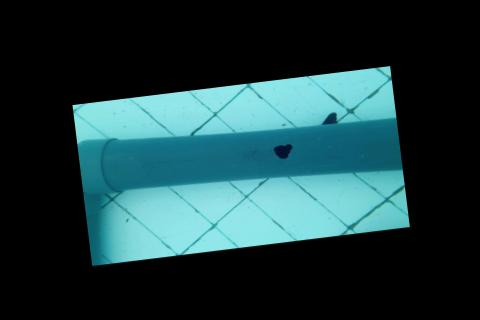kebocoran: (270, 140, 295, 160)
